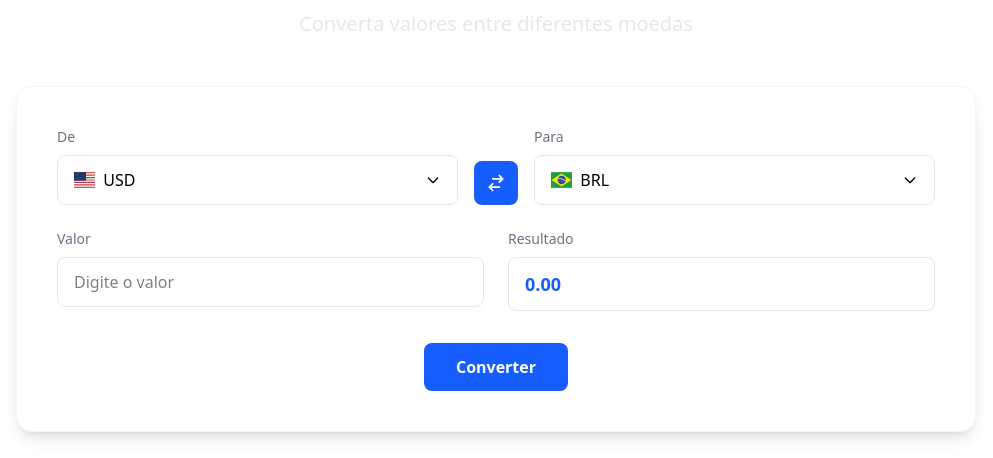
Test: Conversor de Moedas › deve converter moeda
This screenshot has width=993, height=458.
Step 1. Type "1" into the number field with placeholder "Digite o valor" → (270, 282), box [57,257,484,307]
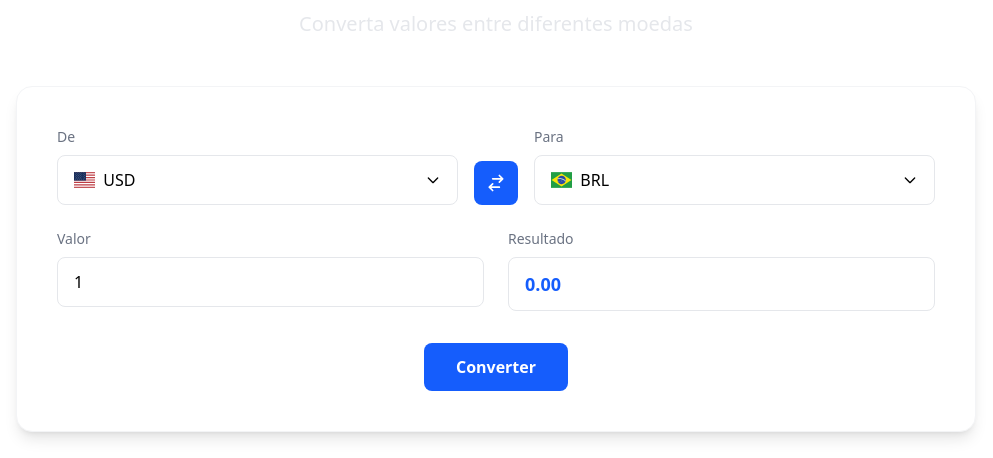
Step 2. Click the button "Converter" → (496, 367), box [424,343,568,391]
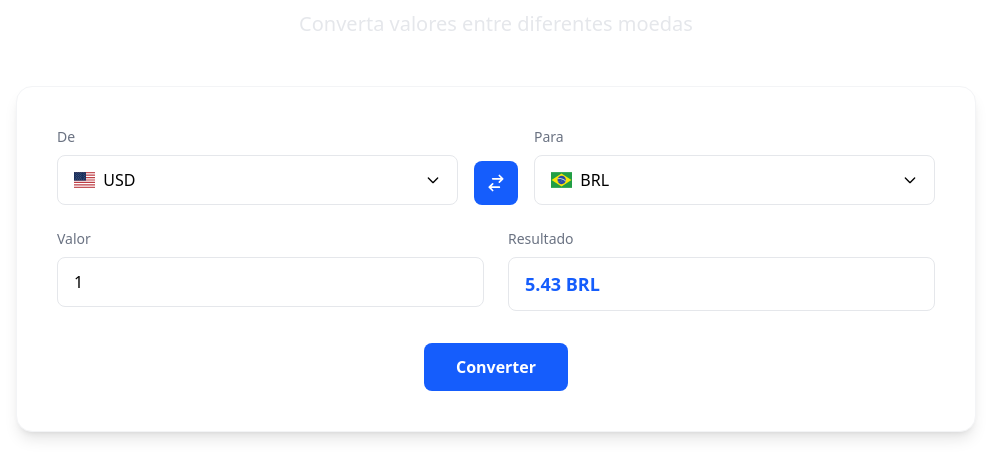
Expected: the text "5.43 BRL" is shown, [508,257,935,311]
